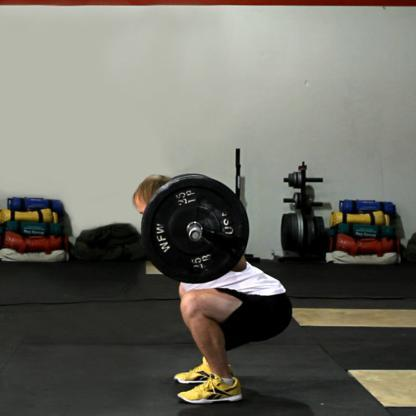Barbell: (188, 227, 204, 247)
